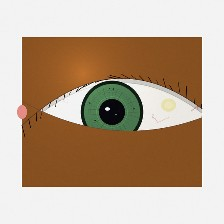pinguecula_lesion: (153, 93, 184, 117)
